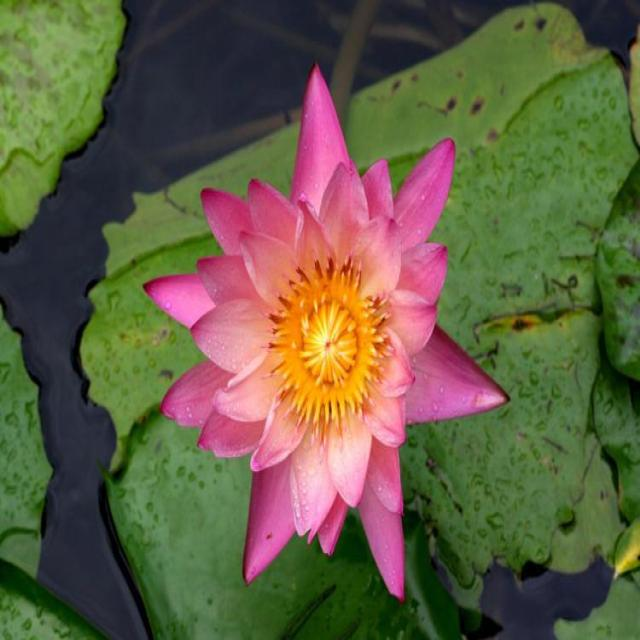water-lily: (120, 32, 507, 570)
